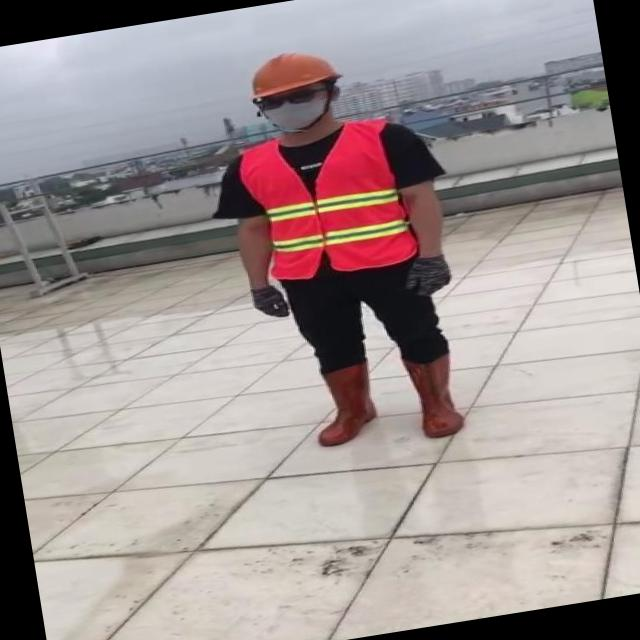hard_hat: (240, 44, 342, 102)
safety_vest: (235, 115, 422, 288)
vehicle: (182, 25, 504, 472)
work_boots: (306, 361, 382, 448), (400, 350, 472, 440)
